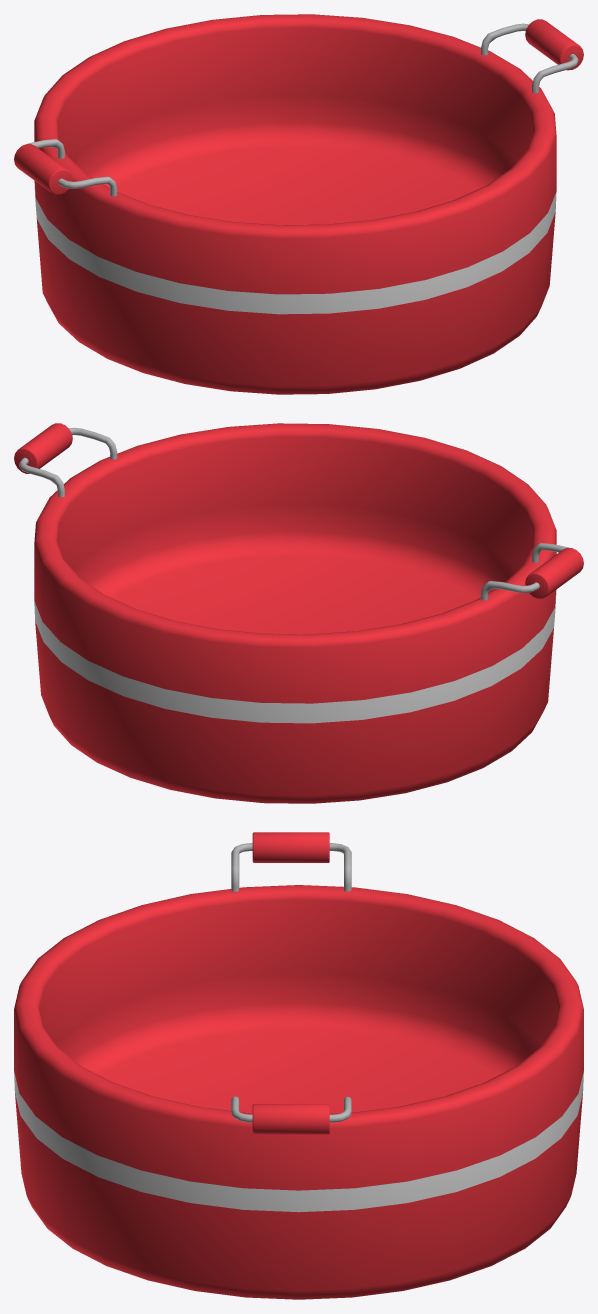
File: Frying pan Big (1).fbx
3 views of the same model, one above another, from view 1: azimuth 30°, elevation 25°; view 2: azimuth 150°, elevation 25°; view 3: azimuth 270°, elevation 25° (orthographic). The views are drawn at different scales.
Visible parts, largest first — view 1: Cylinder.001; view 2: Cylinder.001; view 3: Cylinder.001.
Part boxes in pixels (x1=…): Cylinder.001: x1=14, y1=14, x2=583, y2=394; Cylinder.001: x1=14, y1=423, x2=583, y2=803; Cylinder.001: x1=14, y1=832, x2=583, y2=1299.
Size of the model in its own units: 36.83 by 13.27 by 31.17.
